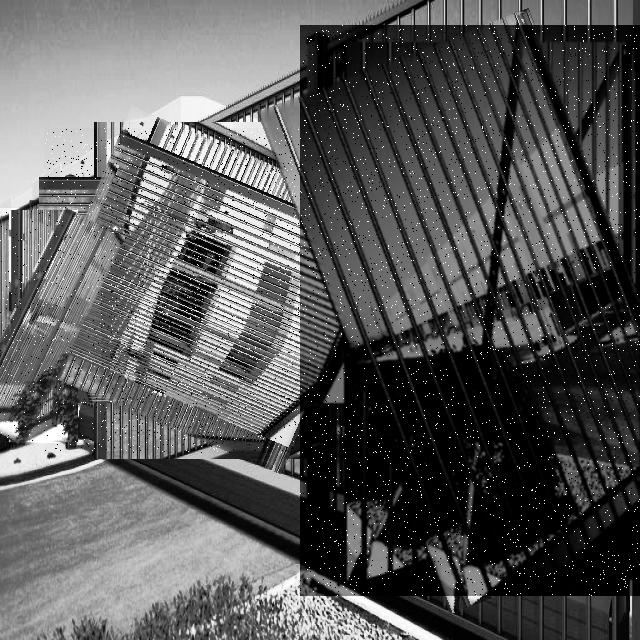fences: (300, 25, 640, 596), (44, 128, 370, 453), (0, 208, 101, 443)
